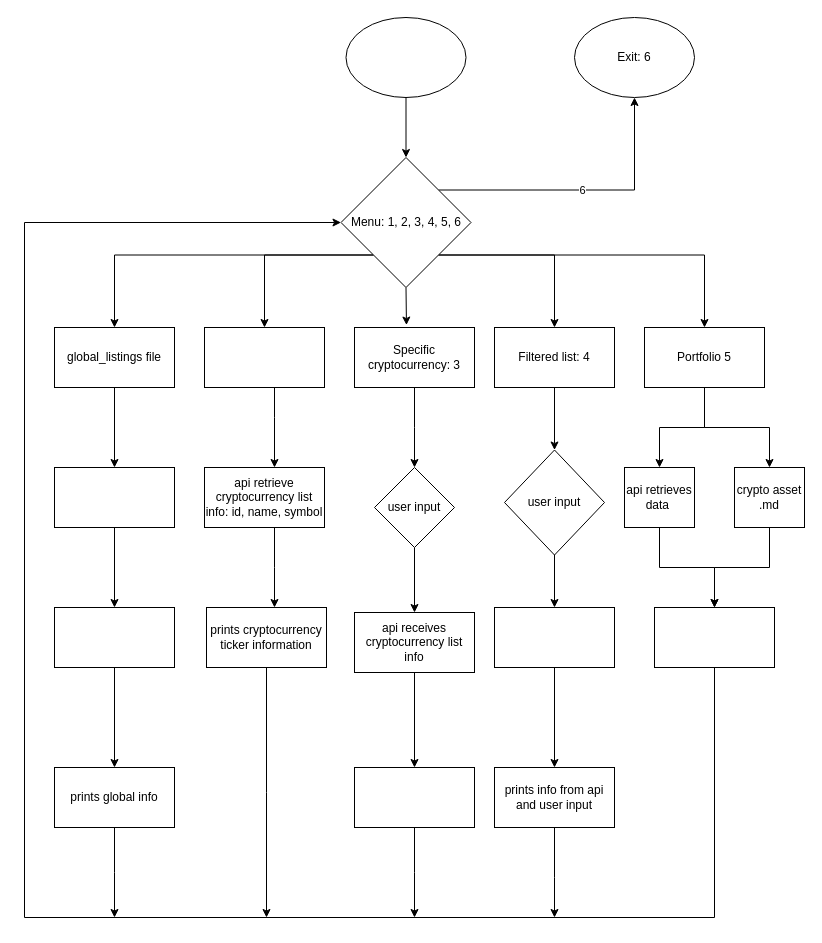
Some shapes in this 822 by 943 pixel diagram are drawn without their labels. The shapes that lost their labels are listed below. From the top down, each one's centre as x and y in pixels, then its label:
At pixel 405 57: "Start".
At pixel 264 357: "cryptocurrency_list file".
At pixel 114 497: "api retrieve global cryptocurrency info".
At pixel 114 637: "global.list () calls upon api info: active markets, global cap...".
At pixel 554 637: "retrieves api data".
At pixel 714 637: "prints info from .md with data from api".
At pixel 414 797: "prints ticker's coins information".
